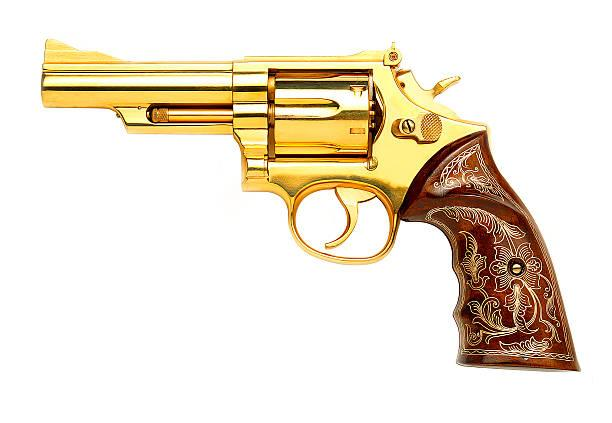weapon: (36, 36, 584, 376)
